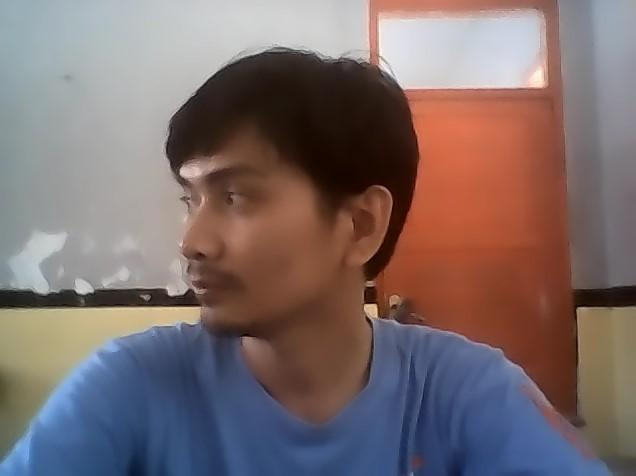cheating: (0, 43, 636, 476)
